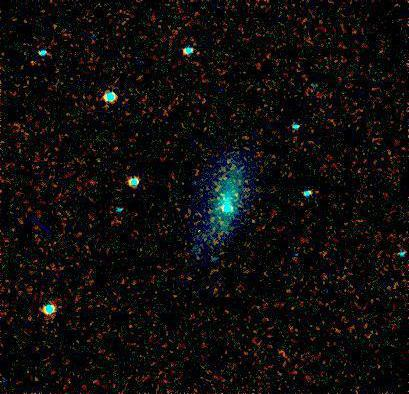star: (241, 209, 271, 239)
